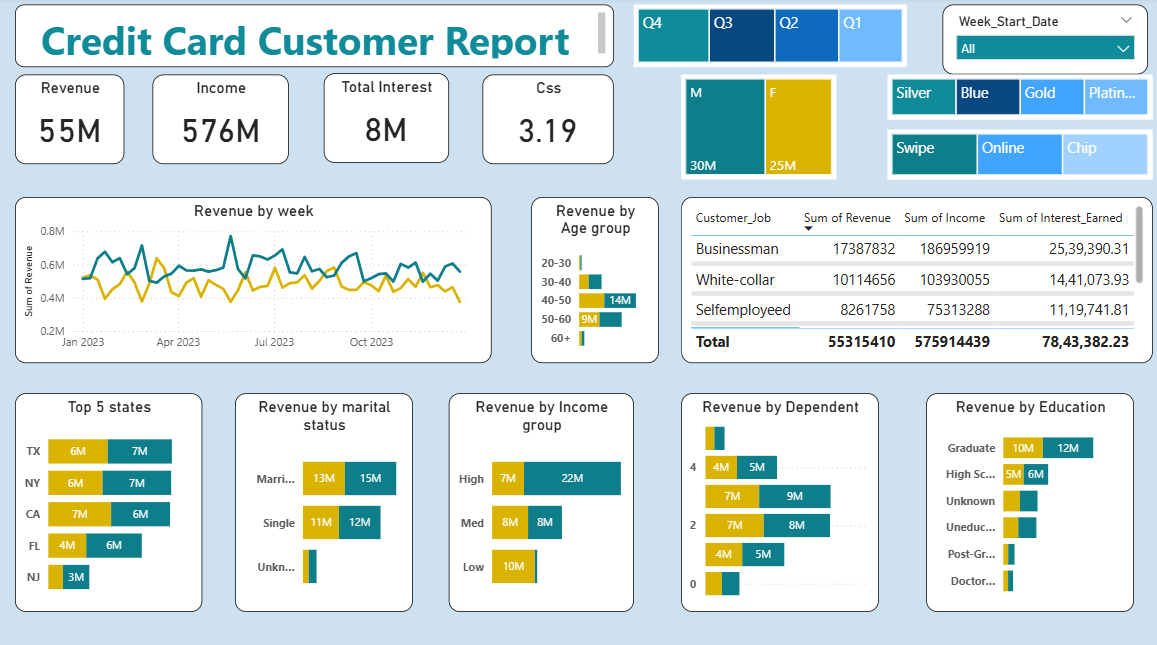

This screenshot's page, from the dashboard's own definition file:
{"tool":"powerbi","page":{"name":"Credit card customer Report","canvas":[1280,720],"ordinal":0},"visuals":[{"type":"textbox","box":[16.5,8.2,657.3,68.6],"z":0},{"type":"tableEx","fields":{"Values":["customer data.Customer_Job","Sum(credit_card.Revenue)","Sum(customer data.Income)","Sum(credit_card.Interest_Earned)"]},"box":[747.9,219.6,517.3,182.5],"z":1000},{"type":"card","title":"Revenue","fields":{"Values":["Sum(credit_card.Revenue)"]},"box":[17.1,85.7,120,98],"z":2000},{"type":"card","title":"  Income","fields":{"Values":["Sum(customer data.Income)"]},"box":[167.4,85.1,149.6,98.8],"z":3000},{"type":"card","title":" Total Interest","fields":{"Values":["Sum(credit_card.Interest_Earned)"]},"box":[355.4,83.7,137.2,98.8],"z":4000},{"type":"card","title":"Css","fields":{"Values":["Avg(customer data.Cust_Satisfaction_Score)"]},"box":[530,85.7,144.3,98.6],"z":5000},{"type":"slicer","fields":{"Values":["credit_card.Week_Start_Date"]},"box":[1034.3,8.6,225.7,77.1],"z":6000},{"type":"treemap","fields":{"Group":["credit_card.Qtr"],"Values":["Avg(credit_card.Client_Num)"]},"box":[695.7,8.6,300,68.6],"z":7000},{"type":"treemap","fields":{"Group":["credit_card.Card_Category"],"Values":["Avg(credit_card.Client_Num)"]},"box":[974.3,85.1,290.9,49.4],"z":9000},{"type":"lineChart","title":"Revenue by week","fields":{"Y":["Sum(credit_card.Revenue)"],"Series":["customer data.Gender"],"Category":["credit_card.Week_Start_Date.Variation.Date Hierarchy.Year","credit_card.Week_Start_Date.Variation.Date Hierarchy.Month","credit_card.Week_Start_Date.Variation.Date Hierarchy.Day"]},"box":[16.5,219.6,522.8,182.5],"z":10001},{"type":"treemap","fields":{"Group":["customer data.Gender"],"Values":["Sum(credit_card.Revenue)"]},"box":[747.9,85.1,170.2,115.3],"z":10002},{"type":"barChart","title":" Revenue by Income group","fields":{"Y":["Sum(credit_card.Revenue)"],"Category":["customer data.IncomeGroup"],"Series":["customer data.Gender"]},"box":[492.6,435,203.1,240.1],"z":10003},{"type":"barChart","title":" Revenue by Age group","fields":{"Y":["Sum(credit_card.Revenue)"],"Category":["customer data.AgeGroup"],"Series":["customer data.Gender"]},"box":[583.2,219.6,140,182.5],"z":10004},{"type":"barChart","title":" Revenue by Dependent","fields":{"Y":["Sum(credit_card.Revenue)"],"Category":["customer data.Dependent_Count"],"Series":["customer data.Gender"]},"box":[747.9,435,216.8,240.1],"z":10005},{"type":"barChart","title":" Revenue by Education","fields":{"Y":["Sum(credit_card.Revenue)"],"Category":["customer data.Education_Level"],"Series":["customer data.Gender"]},"box":[1016.8,435,227.8,240.1],"z":10006},{"type":"barChart","title":" Top 5 states","fields":{"Y":["Sum(credit_card.Revenue)"],"Category":["customer data.state_cd"],"Series":["customer data.Gender"]},"box":[16.5,435,205.8,240.1],"z":10007},{"type":"barChart","title":" Revenue by marital status","fields":{"Y":["Sum(credit_card.Revenue)"],"Category":["customer data.Marital_Status"],"Series":["customer data.Gender"]},"box":[258,435,194.9,240.1],"z":10008},{"type":"treemap","fields":{"Group":["credit_card.Use Chip"],"Values":["Avg(credit_card.Client_Num)"]},"box":[974.3,145.5,290.9,54.9],"z":10009}]}

Visuals, with their boxes in screenshot pixels (x1, y1, x2, y2), scaled from the page's 1280x720 canvas onto the 1157x645 screenshot:
textbox: (15, 7, 609, 69)
tableEx - customer data.Customer_Job x Sum(credit_card.Revenue): (676, 197, 1144, 360)
"Revenue" card: (15, 77, 124, 165)
"  Income" card: (151, 76, 287, 165)
" Total Interest" card: (321, 75, 445, 163)
"Css" card: (479, 77, 610, 165)
slicer - credit_card.Week_Start_Date: (935, 8, 1139, 77)
treemap - credit_card.Qtr x Avg(credit_card.Client_Num): (629, 8, 900, 69)
treemap - credit_card.Card_Category x Avg(credit_card.Client_Num): (881, 76, 1144, 120)
"Revenue by week" lineChart: (15, 197, 487, 360)
treemap - customer data.Gender x Sum(credit_card.Revenue): (676, 76, 830, 180)
" Revenue by Income group" barChart: (445, 390, 629, 605)
" Revenue by Age group" barChart: (527, 197, 654, 360)
" Revenue by Dependent" barChart: (676, 390, 872, 605)
" Revenue by Education" barChart: (919, 390, 1125, 605)
" Top 5 states" barChart: (15, 390, 201, 605)
" Revenue by marital status" barChart: (233, 390, 409, 605)
treemap - credit_card.Use Chip x Avg(credit_card.Client_Num): (881, 130, 1144, 180)
